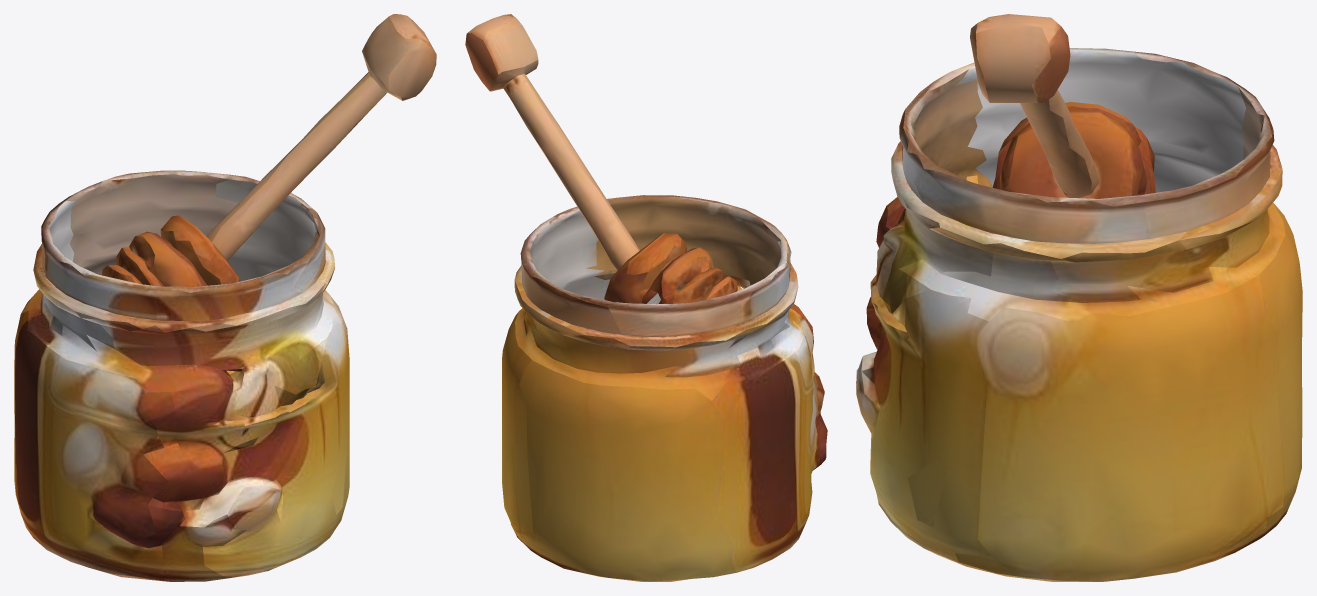
Rendered from honeyed_nuts.glb.
3 views of the same model, side by side, from view 1: azimuth 30°, elevation 25°; view 2: azimuth 150°, elevation 25°; view 3: azimuth 270°, elevation 25° (orthographic). The views are drawn at different scales.
Parts seen in each view (by area): view 1: item_honeyed_nuts; view 2: item_honeyed_nuts; view 3: item_honeyed_nuts.
Part boxes in pixels (x1,y1,x2,y2): item_honeyed_nuts: [14, 14, 436, 581]; item_honeyed_nuts: [465, 14, 827, 581]; item_honeyed_nuts: [856, 14, 1302, 581].
Bounding box in the file's own units: 0.8241 × 1 × 0.6668.
1 material, 1 textured.
